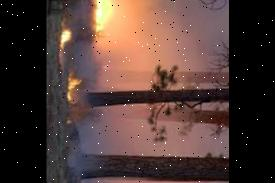fire: (90, 0, 117, 38), (57, 14, 75, 60), (64, 69, 82, 107)
